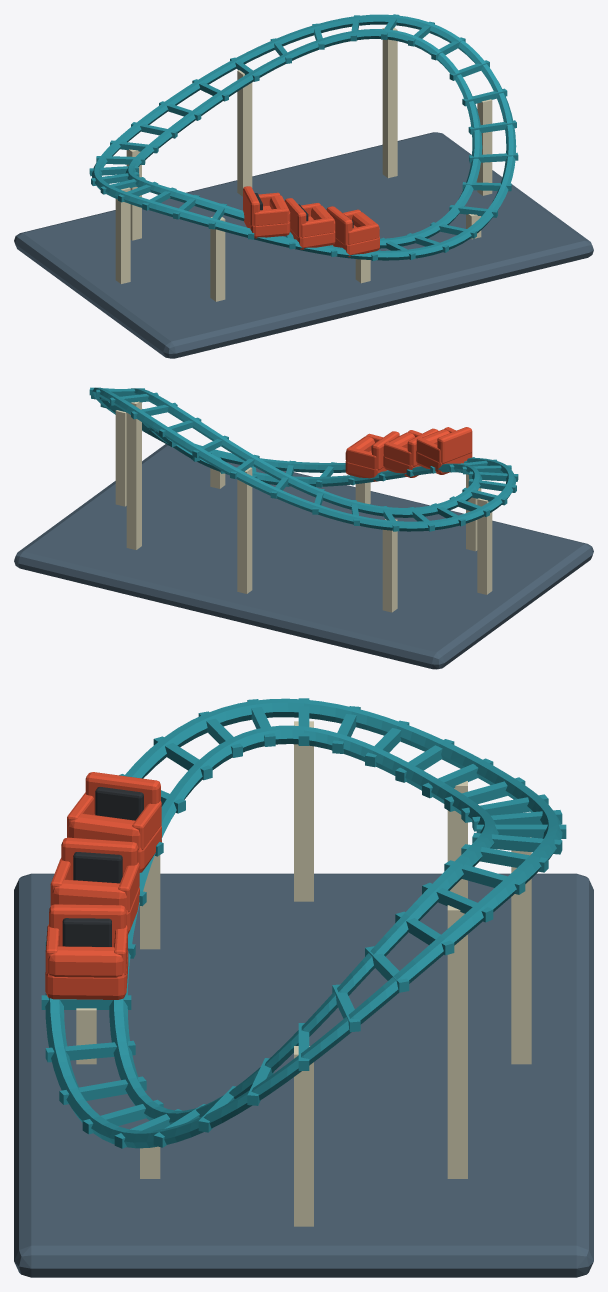
Rendered from NEW_RECOVERY_106_LOD0.glb.
3 renders of one model, top to bottom at view 1: azimuth 30°, elevation 25°; view 2: azimuth 150°, elevation 25°; view 3: azimuth 270°, elevation 25°, orthographic. The views are drawn at different scales.
Parts seen in each view (by area): view 1: Compact_roller_coaster; view 2: Compact_roller_coaster; view 3: Compact_roller_coaster.
Part boxes in pixels (x1,y1,x2,y2): Compact_roller_coaster: [14, 14, 593, 358]; Compact_roller_coaster: [14, 387, 593, 669]; Compact_roller_coaster: [14, 698, 593, 1277].
Size of the model in its own units: 6.3 by 2.38 by 4.
